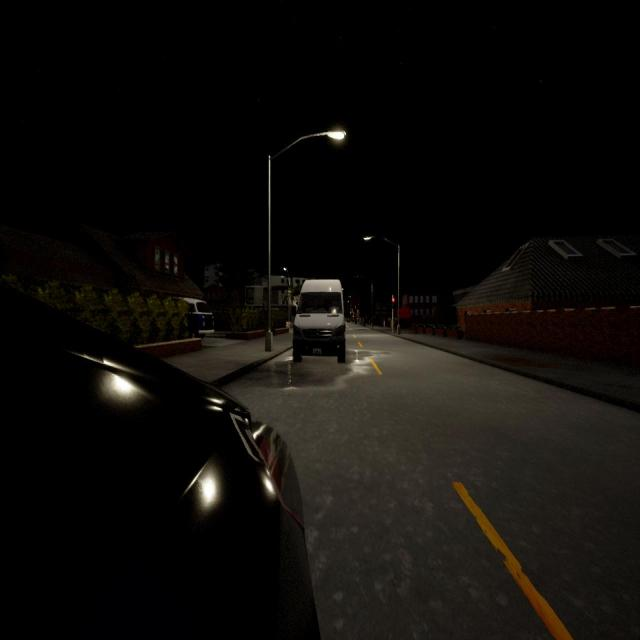Pedestrian: (356, 309, 361, 326)
Vehicle: (0, 285, 319, 637), (291, 279, 347, 364), (183, 296, 216, 338)
traffic_light: (392, 298, 396, 309)
